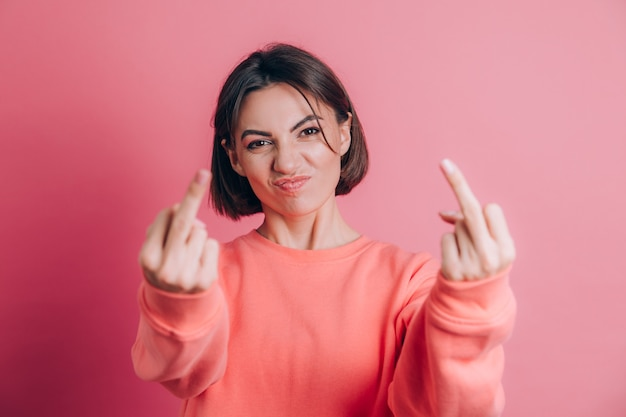insulting_gesture: (433, 159, 518, 283), (139, 168, 222, 291)
